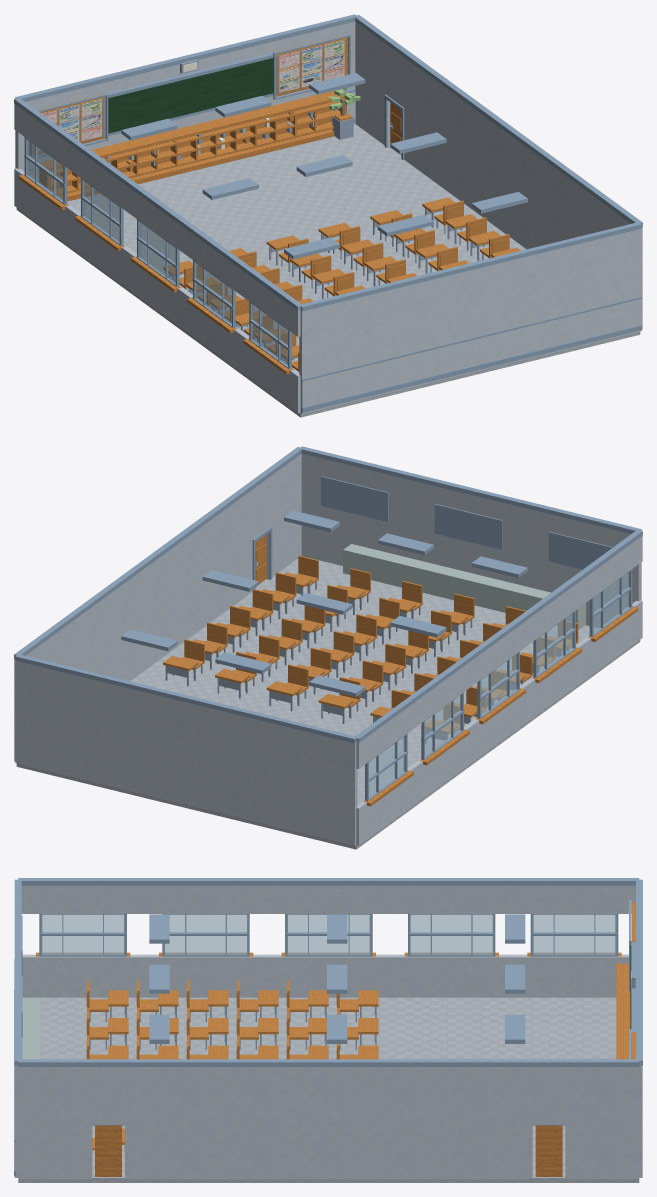
Rendered from school-classroom-3d.glb.
3 views of the same model, one above another, from view 1: azimuth 30°, elevation 25°; view 2: azimuth 150°, elevation 25°; view 3: azimuth 270°, elevation 25° (orthographic). The views are drawn at different scales.
Visible parts, largest first — view 1: Classroom | Porcelain Blue Walls, Classroom | Classroom Tile, Classroom | Blue Gray Trim, Classroom | Warm Desk Wood, Classroom | Warm Plaster, Classroom | Sunlit Wood, Classroom | Classroom Greenboard, Classroom | Pale Blue Window Glass, Classroom | Classroom Poster Atlas, Classroom | Dark Wood, Classroom | Blue Steel; view 2: Classroom | Porcelain Blue Walls, Classroom | Blue Gray Trim, Classroom | Classroom Tile, Classroom | Warm Desk Wood, Classroom | School Locker Sage, Classroom | Pale Blue Window Glass, Classroom | Sunlit Wood, Classroom | Blue Steel; view 3: Classroom | Porcelain Blue Walls, Classroom | Classroom Tile, Classroom | Blue Gray Trim, Classroom | Pale Blue Window Glass, Classroom | Sunlit Wood, Classroom | Warm Desk Wood, Classroom | School Locker Sage, Classroom | Blue Steel.
Boxes of the visible parts, x1=… form: Classroom | Porcelain Blue Walls: x1=14, y1=21, x2=642, y2=413; Classroom | Classroom Tile: x1=16, y1=124, x2=640, y2=417; Classroom | Blue Gray Trim: x1=14, y1=14, x2=642, y2=412; Classroom | Warm Desk Wood: x1=39, y1=99, x2=520, y2=369; Classroom | Warm Plaster: x1=29, y1=91, x2=641, y2=413; Classroom | Sunlit Wood: x1=18, y1=34, x2=507, y2=374; Classroom | Classroom Greenboard: x1=108, y1=58, x2=273, y2=133; Classroom | Pale Blue Window Glass: x1=28, y1=140, x2=287, y2=365; Classroom | Classroom Poster Atlas: x1=34, y1=39, x2=346, y2=153; Classroom | Dark Wood: x1=51, y1=108, x2=352, y2=201; Classroom | Blue Steel: x1=59, y1=109, x2=488, y2=367; Classroom | Porcelain Blue Walls: x1=14, y1=453, x2=642, y2=845; Classroom | Blue Gray Trim: x1=14, y1=446, x2=642, y2=801; Classroom | Classroom Tile: x1=16, y1=559, x2=640, y2=849; Classroom | Warm Desk Wood: x1=163, y1=544, x2=578, y2=733; Classroom | School Locker Sage: x1=343, y1=544, x2=585, y2=629; Classroom | Pale Blue Window Glass: x1=369, y1=572, x2=628, y2=797; Classroom | Sunlit Wood: x1=183, y1=534, x2=638, y2=806; Classroom | Blue Steel: x1=165, y1=561, x2=568, y2=743; Classroom | Porcelain Blue Walls: x1=15, y1=885, x2=642, y2=1179; Classroom | Classroom Tile: x1=18, y1=997, x2=639, y2=1182; Classroom | Blue Gray Trim: x1=14, y1=878, x2=642, y2=1179; Classroom | Pale Blue Window Glass: x1=41, y1=914, x2=616, y2=954; Classroom | Sunlit Wood: x1=36, y1=902, x2=635, y2=1176; Classroom | Warm Desk Wood: x1=87, y1=980, x2=378, y2=1144; Classroom | School Locker Sage: x1=22, y1=997, x2=39, y2=1059; Classroom | Blue Steel: x1=89, y1=1006, x2=376, y2=1152.
Bounding box in the file's own units: 15.61 × 4.77 × 22.27.
Materials: 16 (8 with a texture image).
